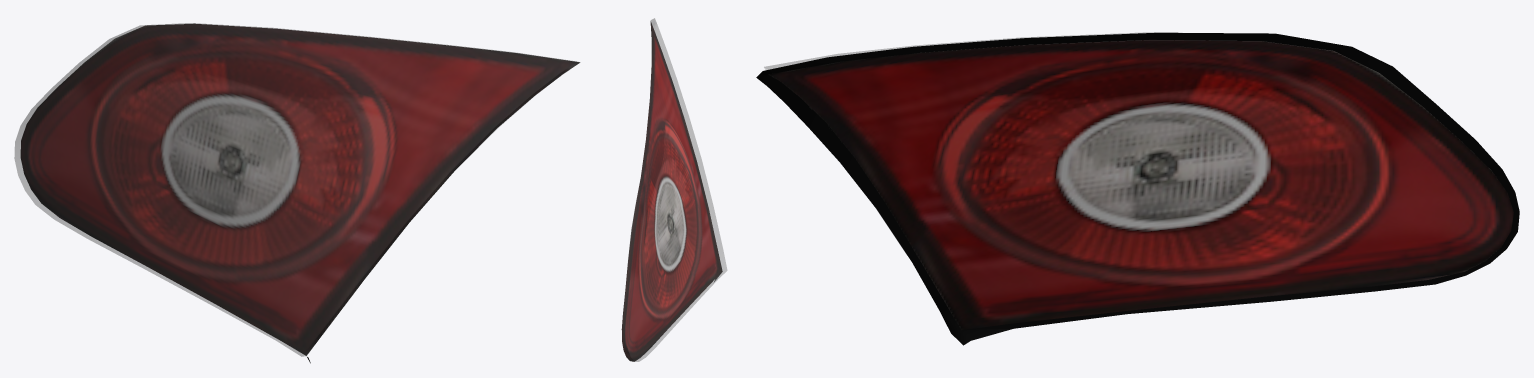
The picture shows the model from 3 angles, left to right: view 1: azimuth 30°, elevation 25°; view 2: azimuth 150°, elevation 25°; view 3: azimuth 270°, elevation 25°; orthographic projection. The views are drawn at different scales.
Visible parts, largest first — view 1: _6139_18_541D_R_2_DTaSI__6139_18_541D_R, _6139_18_541D_R__6139_18_541D_R_1_N; view 2: _6139_18_541D_R_2_DTaSI__6139_18_541D_R, _6139_18_541D_R__6139_18_541D_R_1_N; view 3: _6139_18_541D_R__6139_18_541D_R_1_N, _6139_18_541D_R__6139_18_541D_R_3_D, _6139_18_541D_R_2_DTaSI__6139_18_541D_R.
Boxes of the visible parts, left/top/right/bottom form: _6139_18_541D_R_2_DTaSI__6139_18_541D_R: left=14, top=23, right=579, bottom=356; _6139_18_541D_R__6139_18_541D_R_1_N: left=20, top=23, right=580, bottom=355; _6139_18_541D_R_2_DTaSI__6139_18_541D_R: left=622, top=18, right=727, bottom=361; _6139_18_541D_R__6139_18_541D_R_1_N: left=621, top=21, right=722, bottom=361; _6139_18_541D_R__6139_18_541D_R_1_N: left=768, top=39, right=1513, bottom=330; _6139_18_541D_R__6139_18_541D_R_3_D: left=756, top=32, right=1519, bottom=345; _6139_18_541D_R_2_DTaSI__6139_18_541D_R: left=764, top=32, right=1181, bottom=69.
Bounding box in the file's own units: 15.99 × 17.88 × 31.43.
